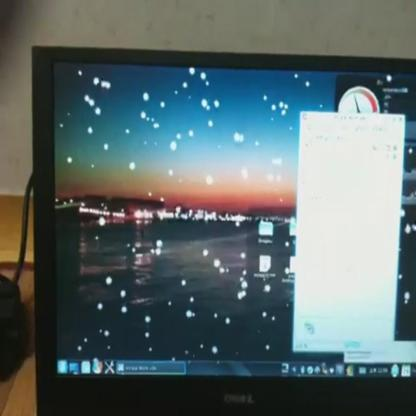board: (1, 54, 403, 416)
